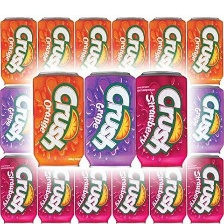can: (29, 69, 87, 172), (133, 68, 190, 171), (85, 69, 137, 168), (0, 14, 37, 87), (186, 152, 224, 223), (184, 85, 223, 154), (186, 15, 223, 86), (0, 155, 37, 223), (0, 86, 35, 152), (147, 12, 186, 71), (74, 16, 112, 75), (37, 15, 75, 73), (149, 167, 188, 223), (113, 165, 150, 224), (112, 14, 148, 70), (75, 169, 112, 223), (37, 170, 74, 223)
